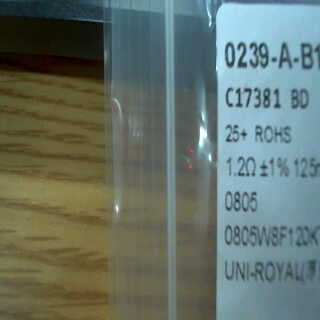1.2R: (222, 153, 262, 216)
